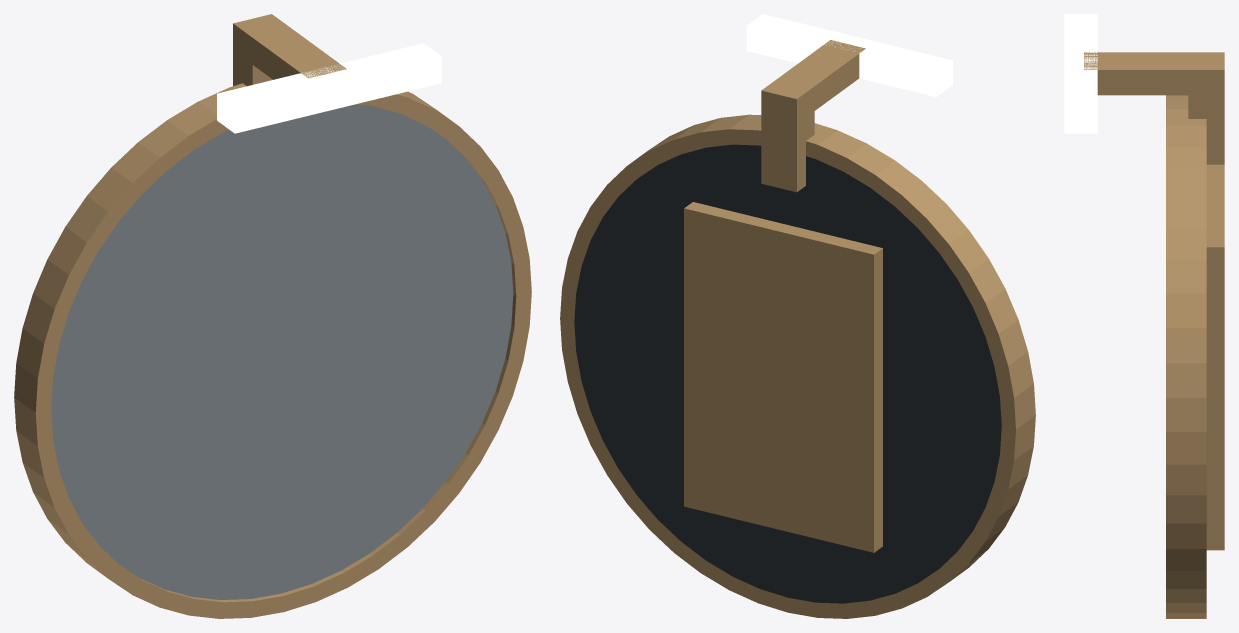
The model's file is round.glb.
The picture shows the model from 3 angles, left to right: view 1: azimuth 30°, elevation 25°; view 2: azimuth 150°, elevation 25°; view 3: azimuth 270°, elevation 25°; orthographic projection. The views are drawn at different scales.
Visible parts, largest first — view 1: makeup-face-center, makeup-frame-center, makeup-lamp, makeup-lamp-arm, makeup-lamp-riser; view 2: makeup-back-center, makeup-wall-mount, makeup-frame-center, makeup-lamp, makeup-lamp-arm, makeup-lamp-riser; view 3: makeup-frame-center, makeup-wall-mount, makeup-lamp-arm, makeup-lamp, makeup-lamp-riser.
Boxes of the visible parts, box(x1,y1,x2,y2) form: makeup-face-center: box(51, 104, 513, 599); makeup-frame-center: box(14, 83, 531, 618); makeup-lamp: box(217, 43, 441, 133); makeup-lamp-arm: box(233, 14, 346, 79); makeup-lamp-riser: box(233, 33, 272, 86); makeup-back-center: box(574, 144, 1001, 603); makeup-wall-mount: box(684, 202, 882, 552); makeup-frame-center: box(560, 114, 1035, 618); makeup-lamp: box(746, 14, 952, 96); makeup-lamp-arm: box(761, 40, 865, 122); makeup-lamp-riser: box(761, 95, 814, 192); makeup-frame-center: box(1166, 95, 1206, 618); makeup-wall-mount: box(1206, 164, 1224, 550); makeup-lamp-arm: box(1084, 52, 1224, 95); makeup-lamp: box(1064, 14, 1097, 133); makeup-lamp-riser: box(1188, 78, 1224, 164).
Size of the model in its own units: 0.3841 by 0.422 by 0.115.
